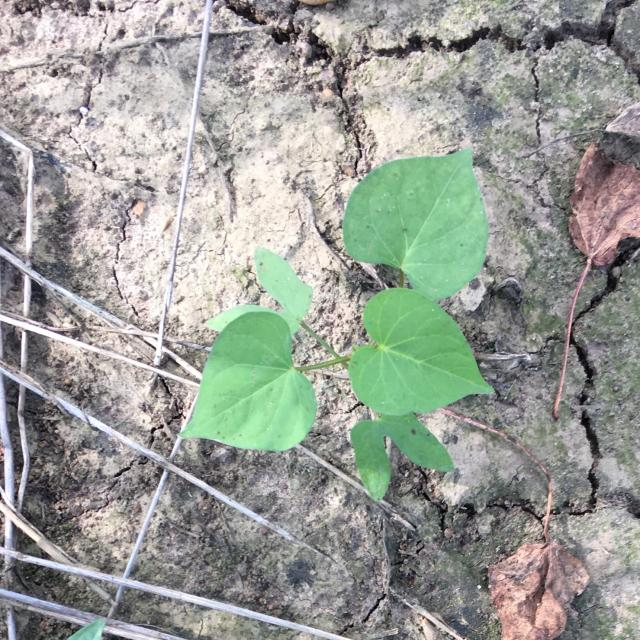MorningGlory: (178, 146, 495, 503)
